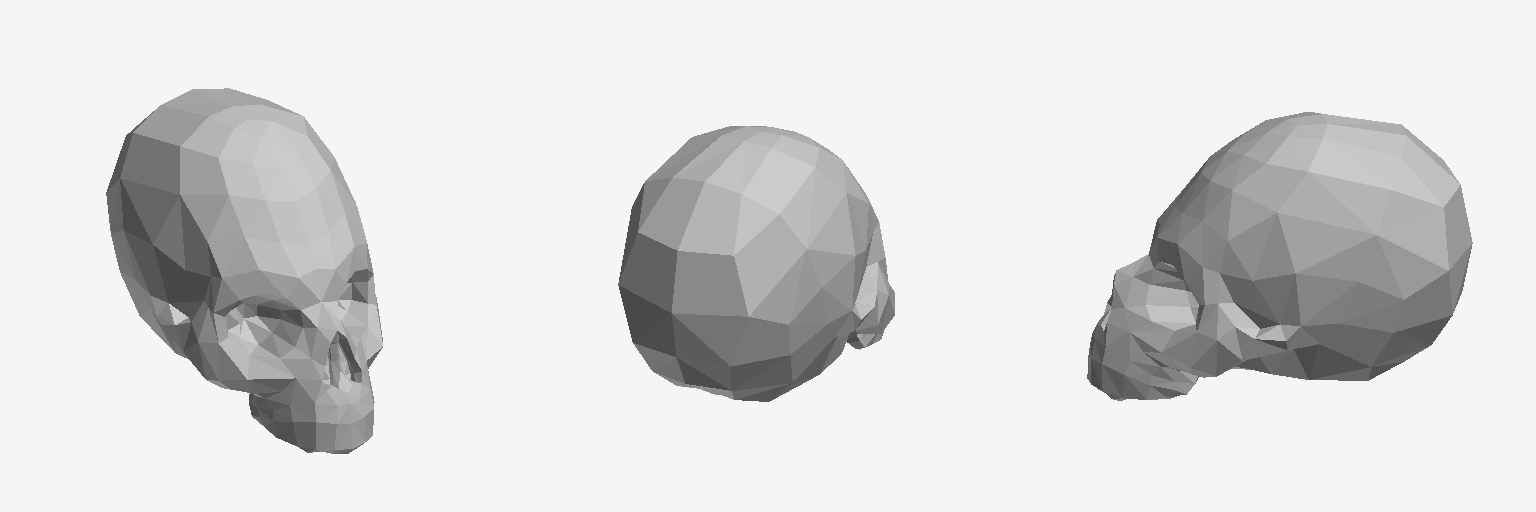
Rendered from M_Skull_StretchedFace.obj.
The picture shows the model from 3 angles: view 1: azimuth 30°, elevation 25°; view 2: azimuth 150°, elevation 25°; view 3: azimuth 270°, elevation 25°; orthographic projection.
Bounding box in the file's own units: 22.61 × 29.74 × 39.3.